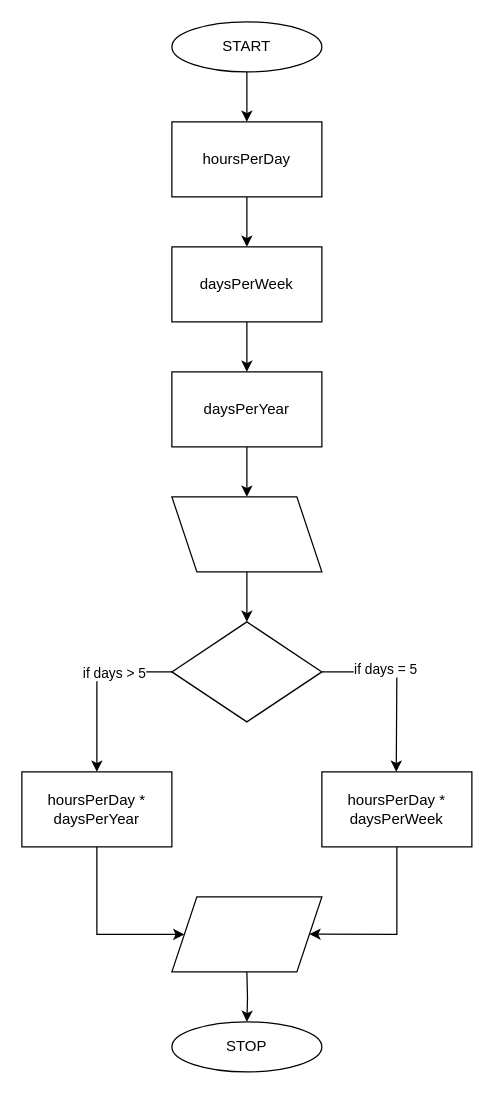
Some shapes in this 494 by 1094 pixel diagram are drawn without their labels. Here are the shapes that lost their labels. From the top down, the box of each, then its label:
(171, 496, 322, 572): INPUT hoursPerDay
(171, 621, 322, 722): how many days?
(171, 896, 322, 972): OUTPUT daysPerWeek daysPerYear
